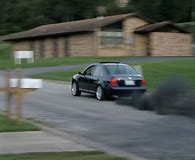smoke: (114, 80, 195, 117)
